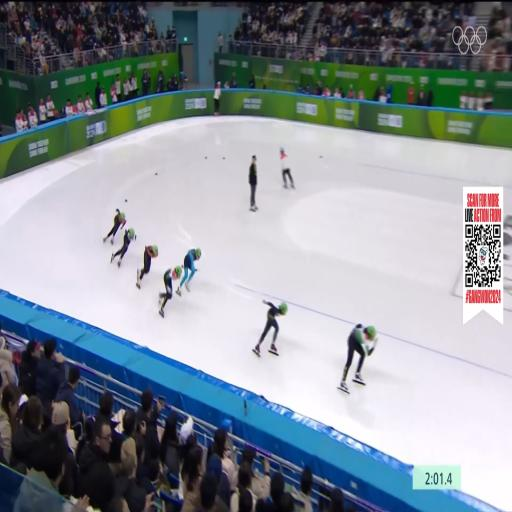Skater: (339, 324, 377, 393), (253, 301, 287, 356), (177, 248, 201, 296), (159, 266, 181, 317), (111, 229, 136, 267), (136, 246, 158, 288), (103, 209, 126, 244)
